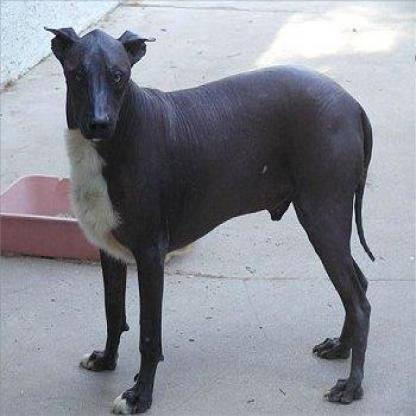Mexican_hairless: (38, 21, 380, 412)
